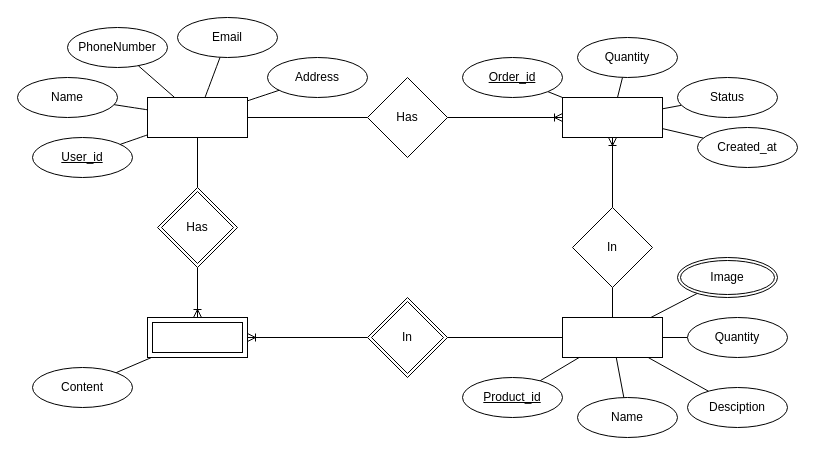
The diagram is 815 pixels wide and 455 high, and some of its shapes have lost their labels. Here are the shapes that lost their labels. From the top down, the centre of each, then its label:
the point at 197,117: Users
the point at 612,117: Orders
the point at 197,337: Comments
the point at 612,337: Products
